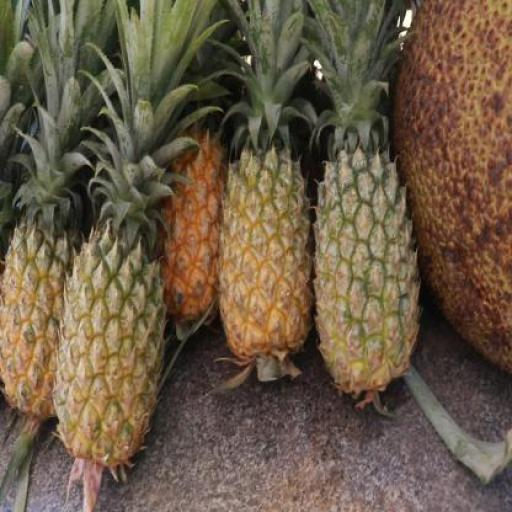------------------------------: (53, 238, 160, 460)
Pineapple - v8 v1: (221, 156, 313, 358), (0, 222, 81, 420), (154, 127, 230, 333)
